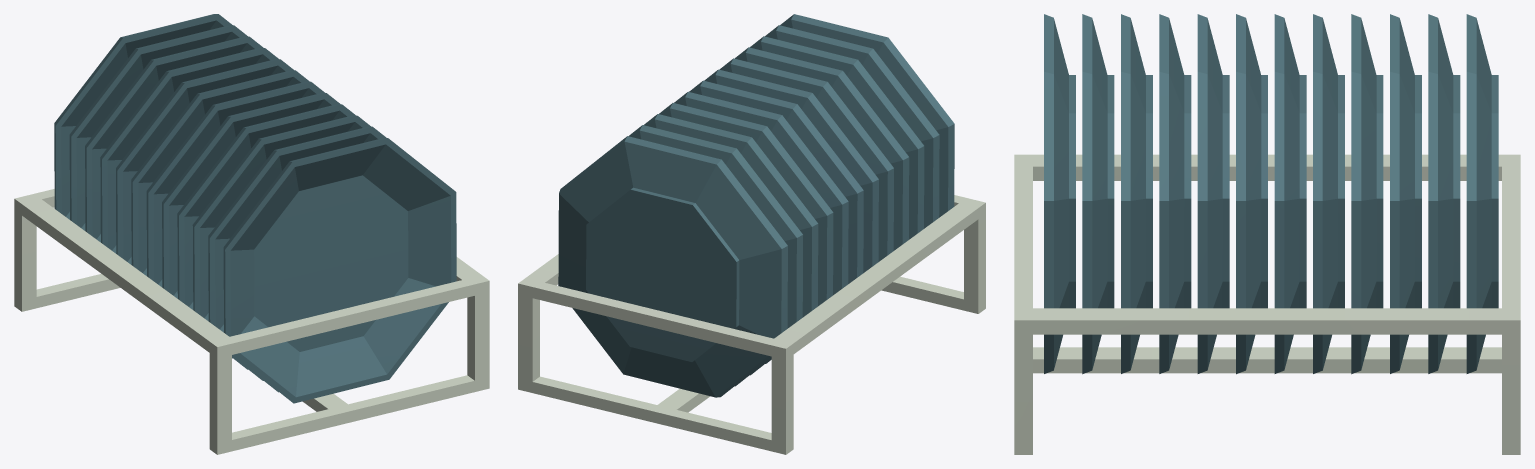
The model's file is clean-plates.glb.
3 views of the same model, side by side, from view 1: azimuth 30°, elevation 25°; view 2: azimuth 150°, elevation 25°; view 3: azimuth 270°, elevation 25° (orthographic). The views are drawn at different scales.
Parts seen in each view (by area): view 1: CleanPlates.001; view 2: CleanPlates.001; view 3: CleanPlates.001.
Part boxes in pixels (x1=…): CleanPlates.001: x1=14, y1=14, x2=489, y2=454; CleanPlates.001: x1=518, y1=14, x2=985, y2=454; CleanPlates.001: x1=1014, y1=14, x2=1520, y2=454.
Size of the model in its own units: 0.3294 by 0.3047 by 0.4253.
1 material, 1 textured.
